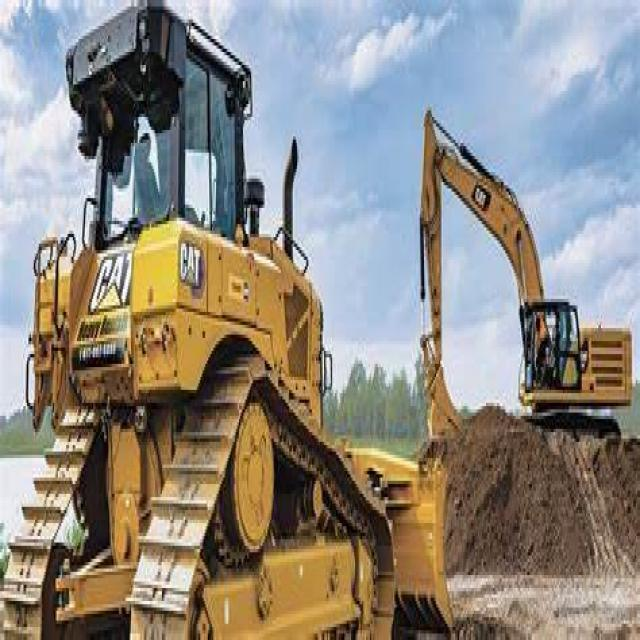Bulldozer: (5, 6, 458, 637)
Excavator: (389, 88, 639, 500)
